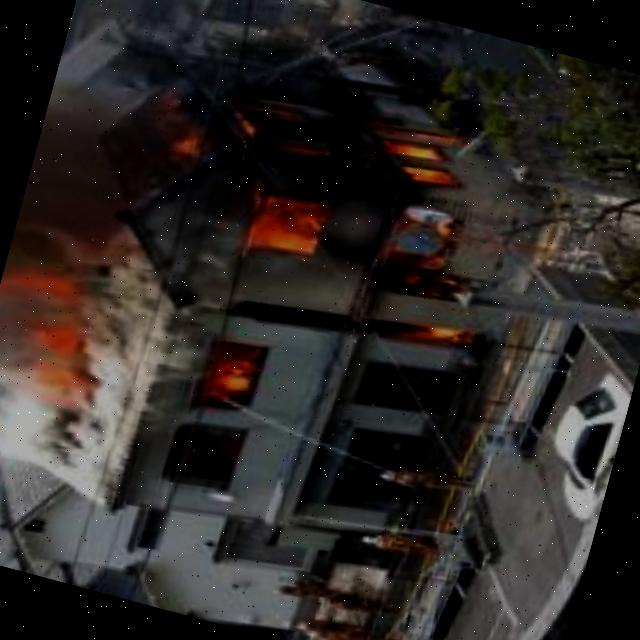fire: (102, 11, 530, 353), (0, 232, 136, 432), (179, 320, 273, 421)
